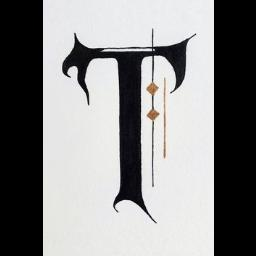t: (54, 23, 204, 229)
